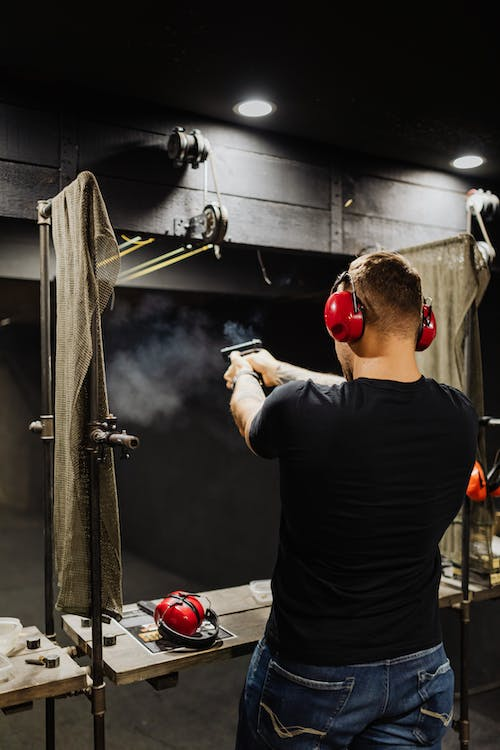gun: (217, 335, 264, 363)
